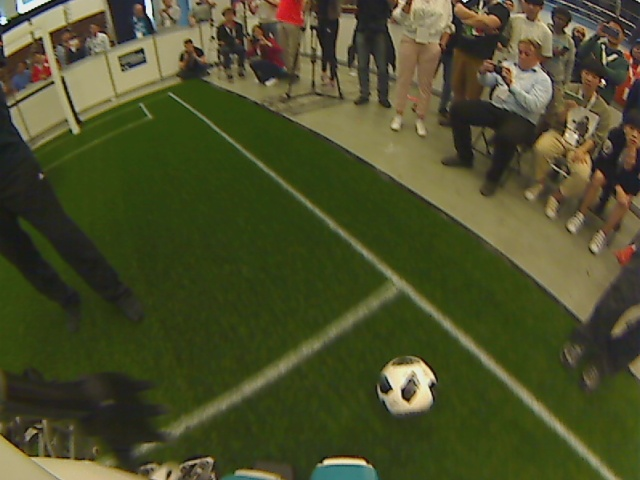ball: (373, 354, 439, 417)
